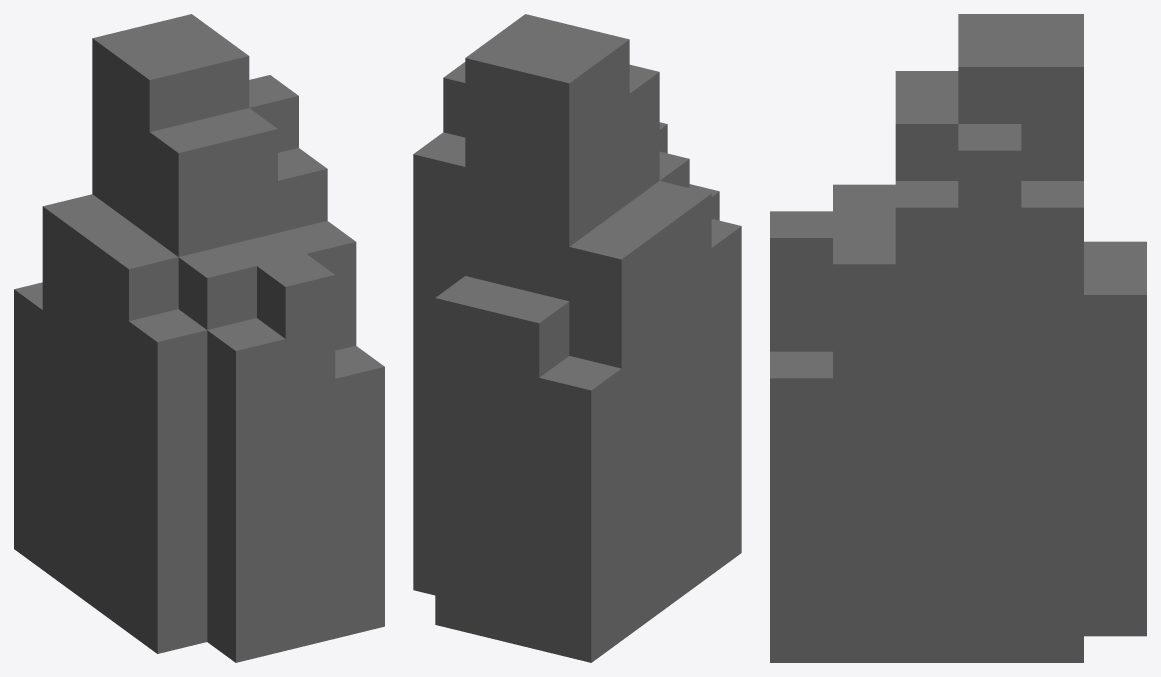
File: Golem arm 1.obj
3 views of the same model, side by side, from view 1: azimuth 30°, elevation 25°; view 2: azimuth 150°, elevation 25°; view 3: azimuth 270°, elevation 25° (orthographic). The views are drawn at different scales.
Size of the model in its own units: 4 by 10 by 6.
Materials: 1 (1 with a texture image).
